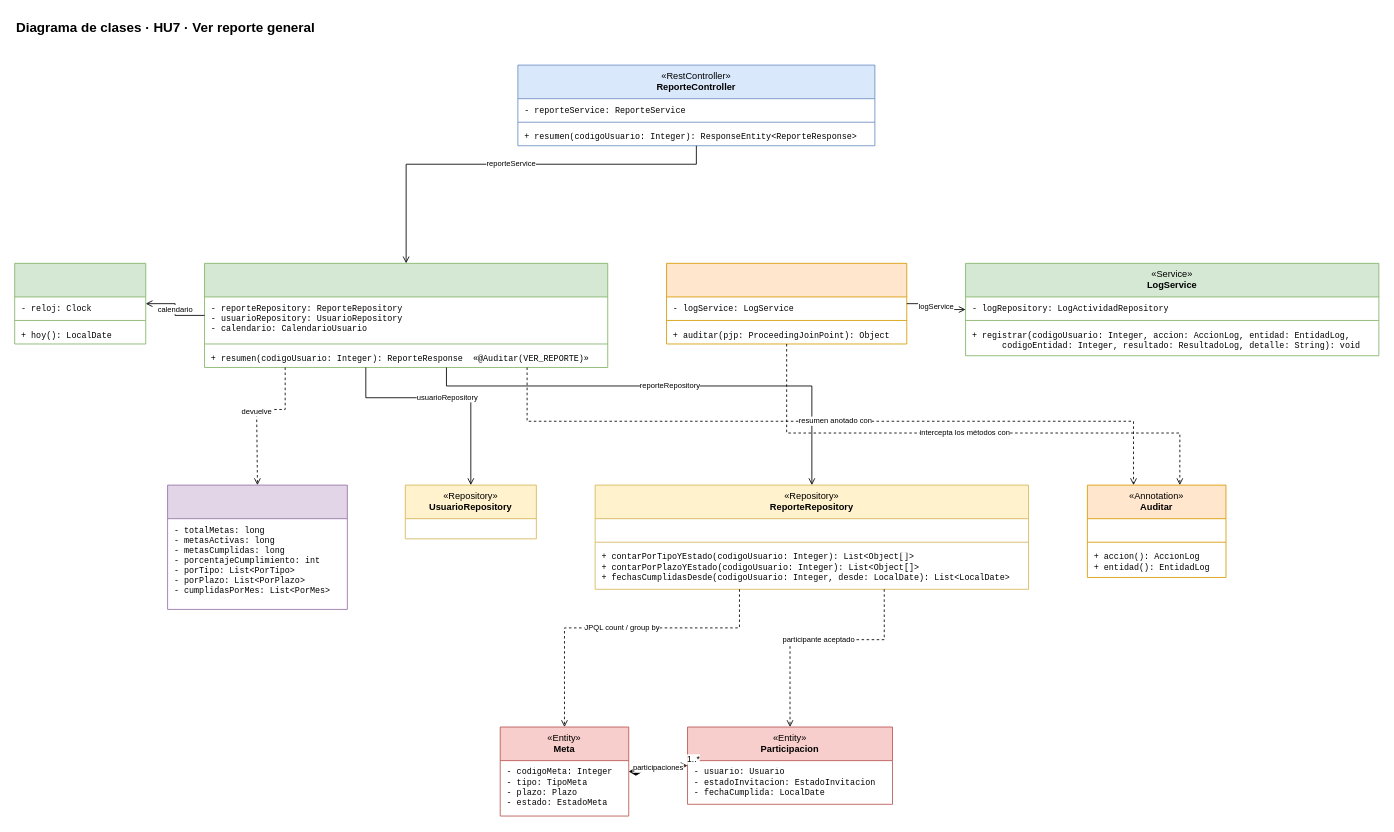
Some shapes in this 1394 by 832 pixel diagram are drawn without their labels. Here are the shapes that lost their labels. From the top down, the box of each, then its label:
(14, 262, 146, 344): «Component» CalendarioUsuario
(204, 262, 608, 368): «Service» ReporteService
(666, 262, 907, 344): «Aspect» AuditoriaAspect
(167, 484, 347, 609): «DTO» ReporteResponse
